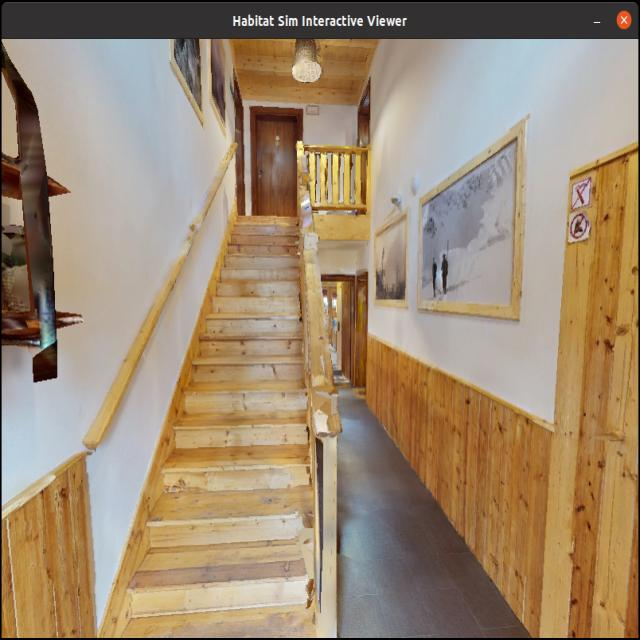stairs: (155, 130, 352, 626)
